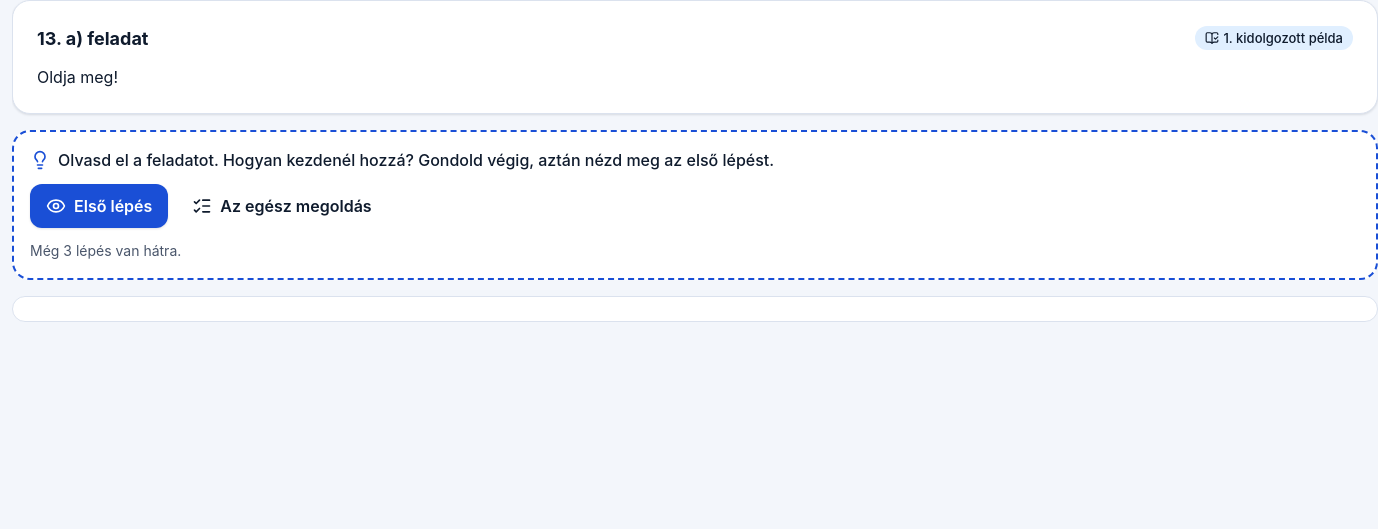
Test: WorkedExample › can show the whole solution at once
Click the button "Az egész megoldás" at {"x": 282, "y": 206}, box x1=176 y1=184 x2=388 y2=228
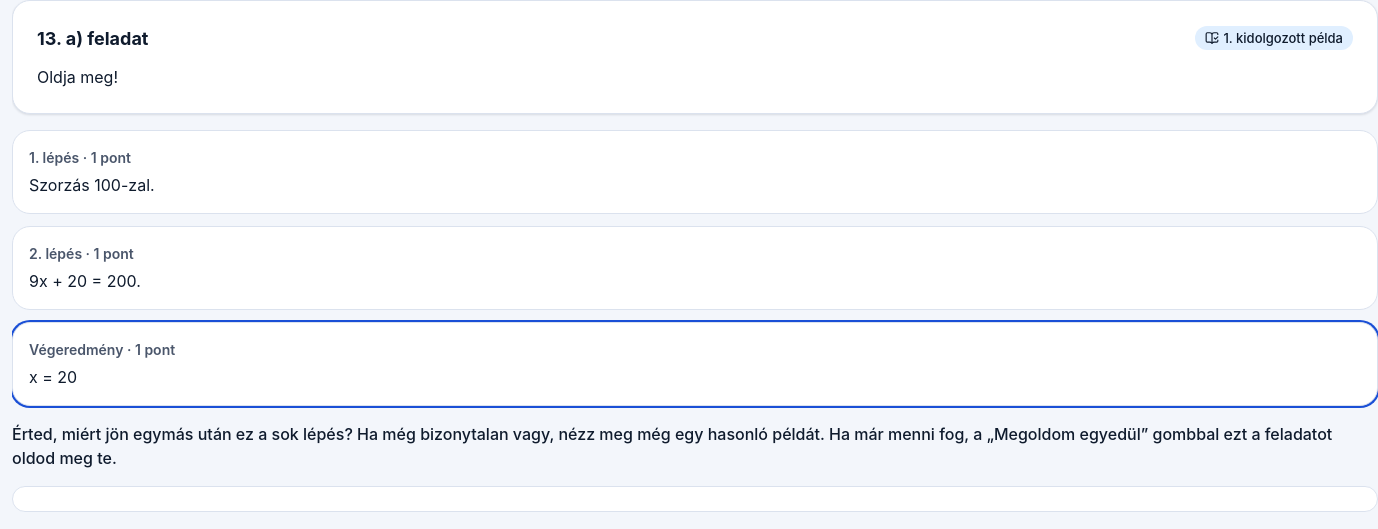
Check: the text "Szorzás 100-zal." is shown, box x1=29 y1=175 x2=155 y2=195
Check: the text "9x + 20 = 200." is shown, box x1=29 y1=271 x2=141 y2=291
Check: the text "x = 20" is shown, box x1=29 y1=367 x2=77 y2=387
